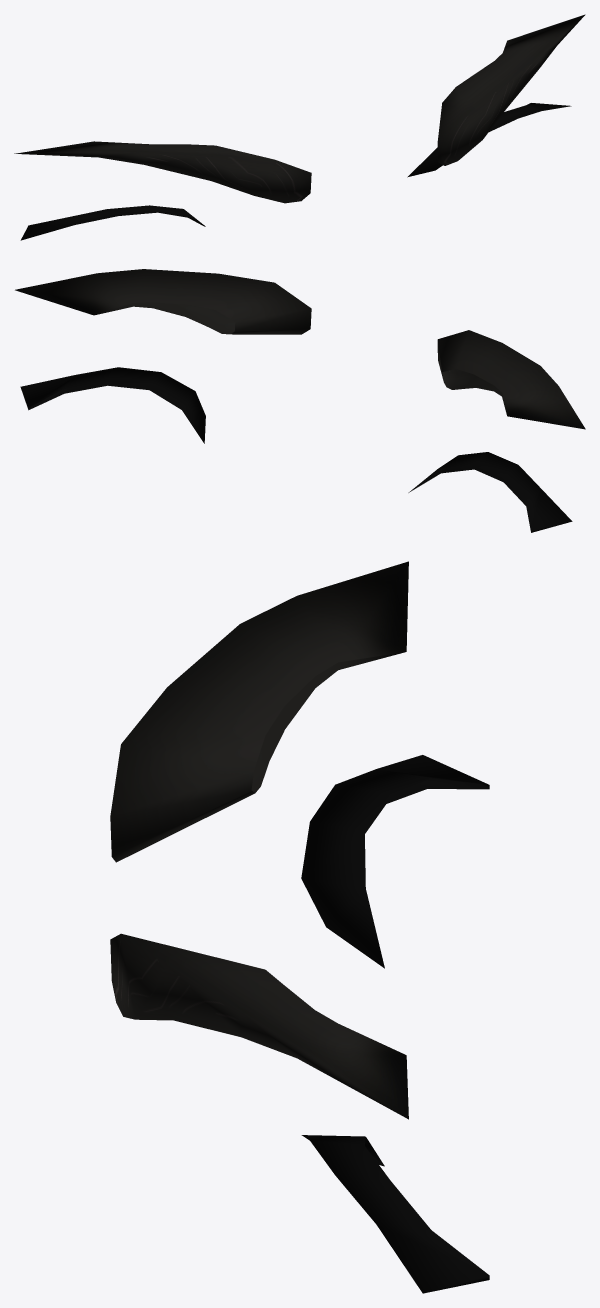
File: brous10.fbx
3 views of the same model, one above another, from view 1: azimuth 30°, elevation 25°; view 2: azimuth 150°, elevation 25°; view 3: azimuth 270°, elevation 25° (orthographic). The views are drawn at different scales.
Visible parts, largest first — view 1: brous10; view 2: brous10; view 3: brous10.
Boxes of the visible parts, box(x1,y1,x2,y2) form: brous10: box(14, 14, 585, 240); brous10: box(15, 269, 585, 532); brous10: box(110, 561, 489, 1293).
Size of the model in its own units: 11.18 by 2.34 by 3.21.
